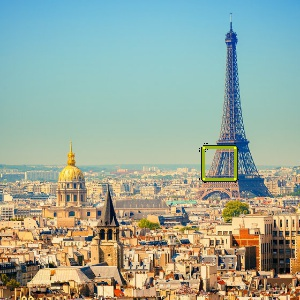square: (199, 141, 239, 184)
